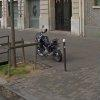Bicycle: (28, 21, 65, 72)
